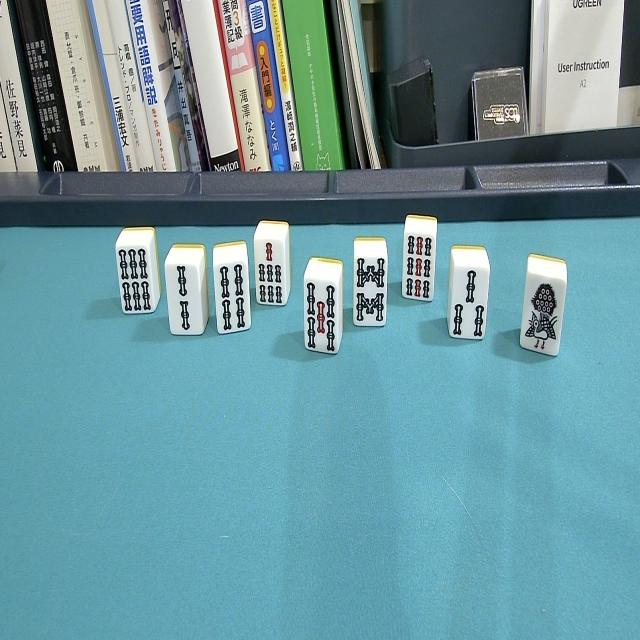1_sou: (519, 252, 569, 364)
2_sou: (164, 242, 208, 344)
3_sou: (446, 245, 491, 348)
4_sou: (212, 241, 254, 339)
5_sou: (302, 256, 344, 358)
6_sou: (115, 225, 161, 322)
7_sou: (252, 220, 292, 310)
8_sou: (351, 234, 389, 332)
9_sou: (400, 212, 440, 305)
